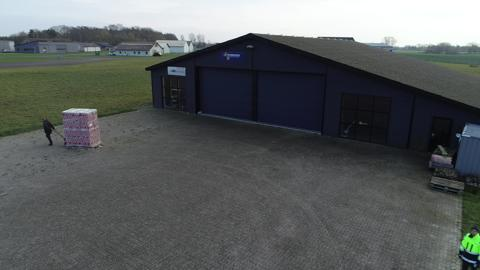RockwoolPallet: (61, 107, 103, 150)
